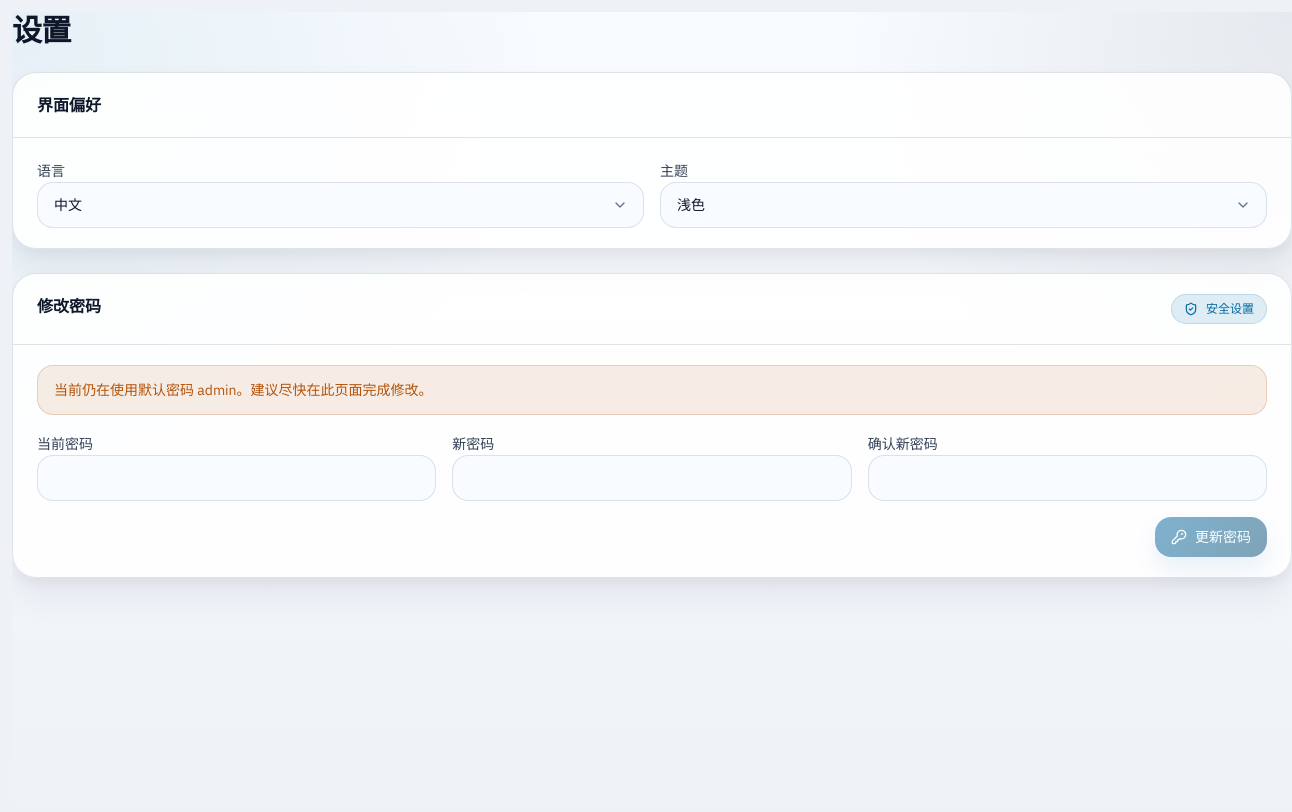
it: SettingsPage › 密码校验失败时通过 alert 区域提示错误
The image size is (1292, 812).
Type "old-password" into the password field labelled "当前密码".
click(237, 478); type("old-password")  # box [37, 455, 436, 501]
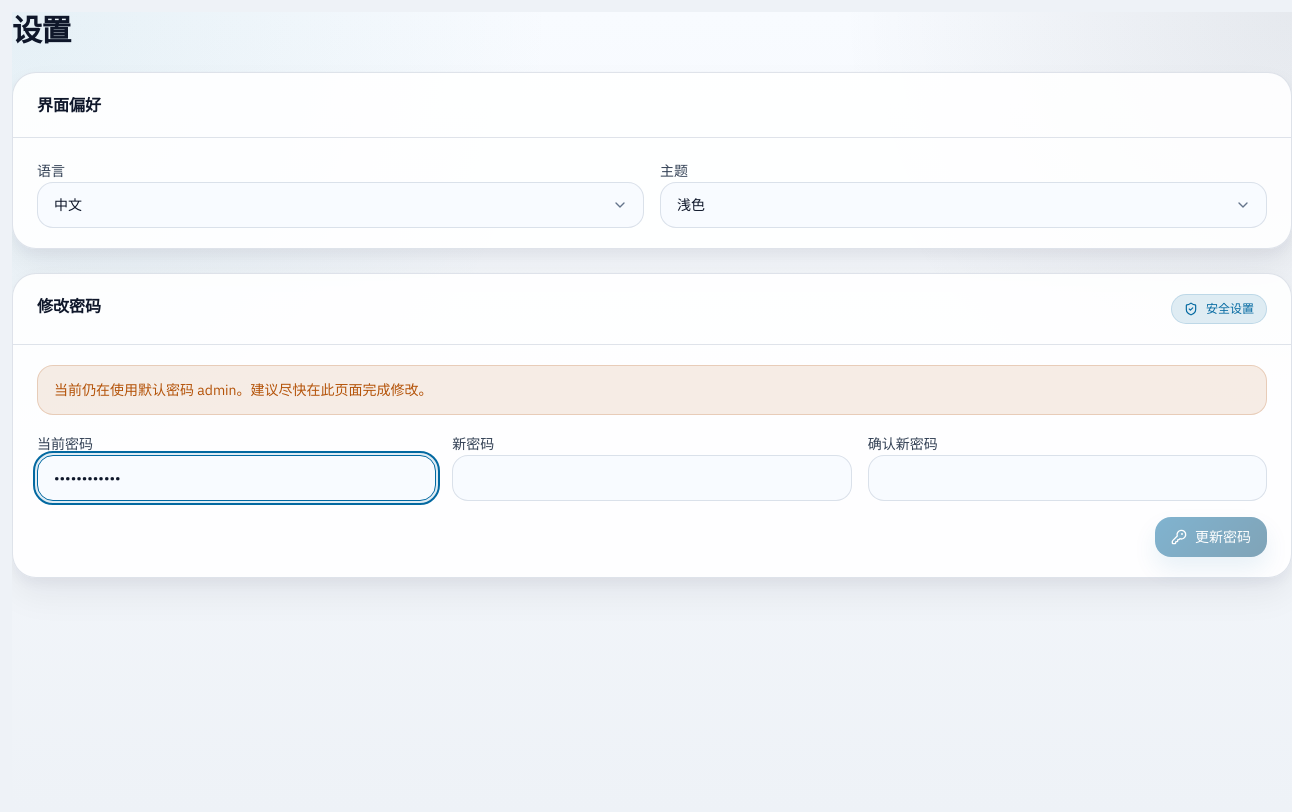
Type "new-password" into the password field labelled "新密码".
click(652, 478); type("new-password")  # box [452, 455, 852, 501]
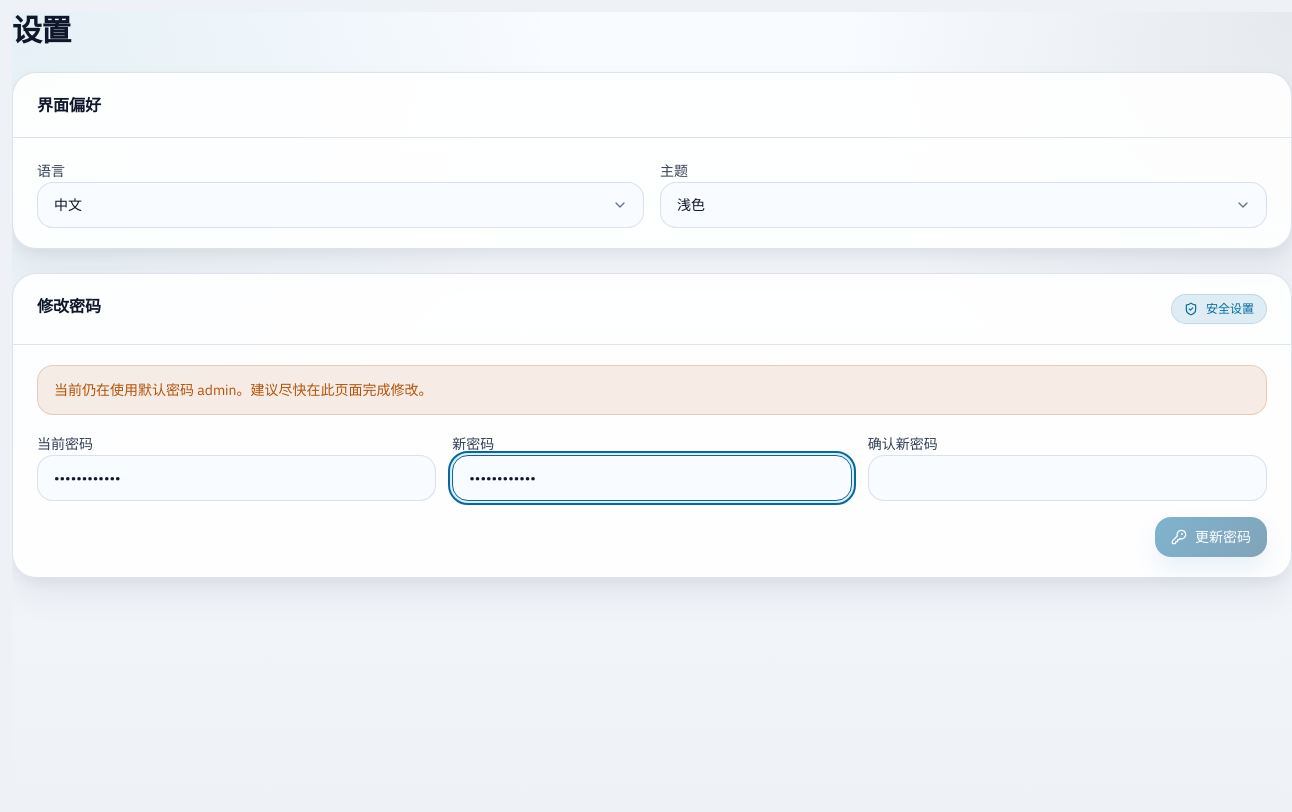
Type "different-password" into the password field labelled "确认新密码".
click(1067, 478); type("different-password")  # box [868, 455, 1267, 501]
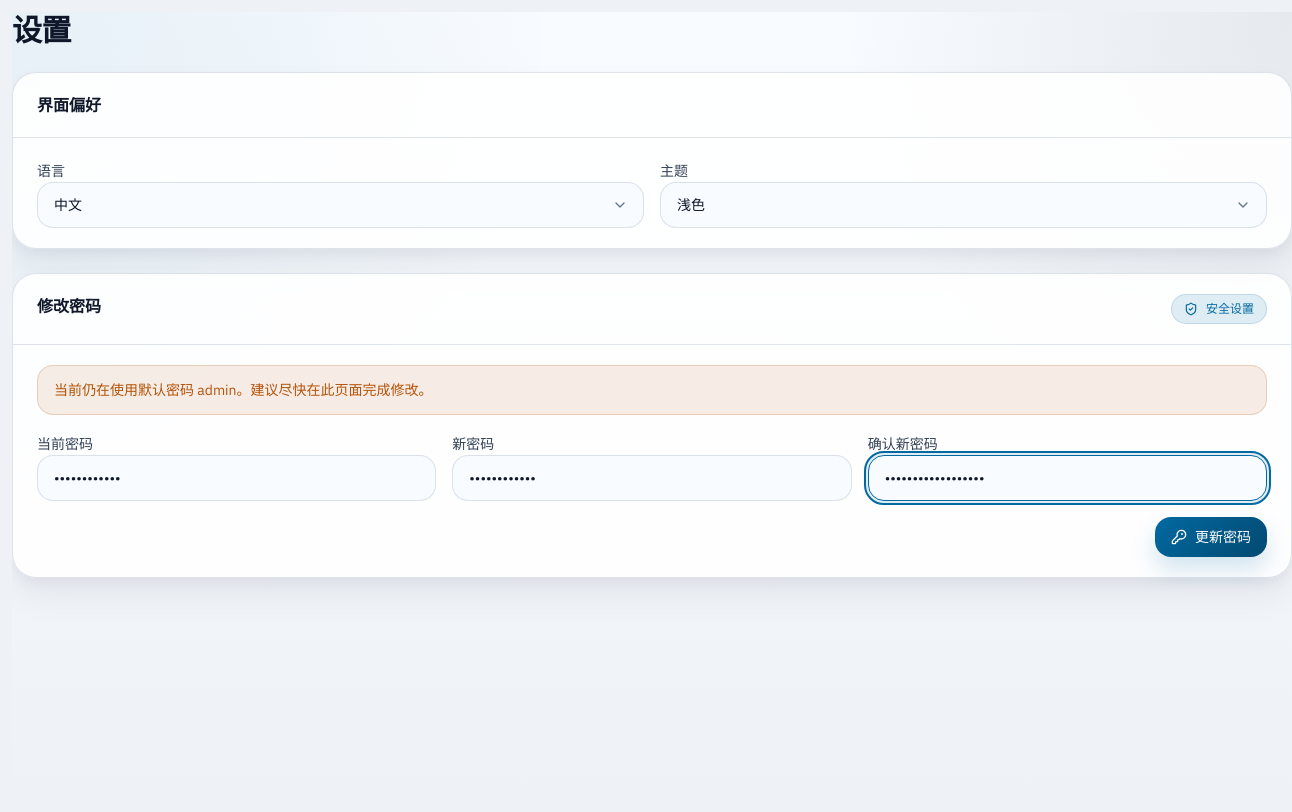
Click the button "更新密码".
click(1211, 537)  # box [1155, 517, 1267, 557]
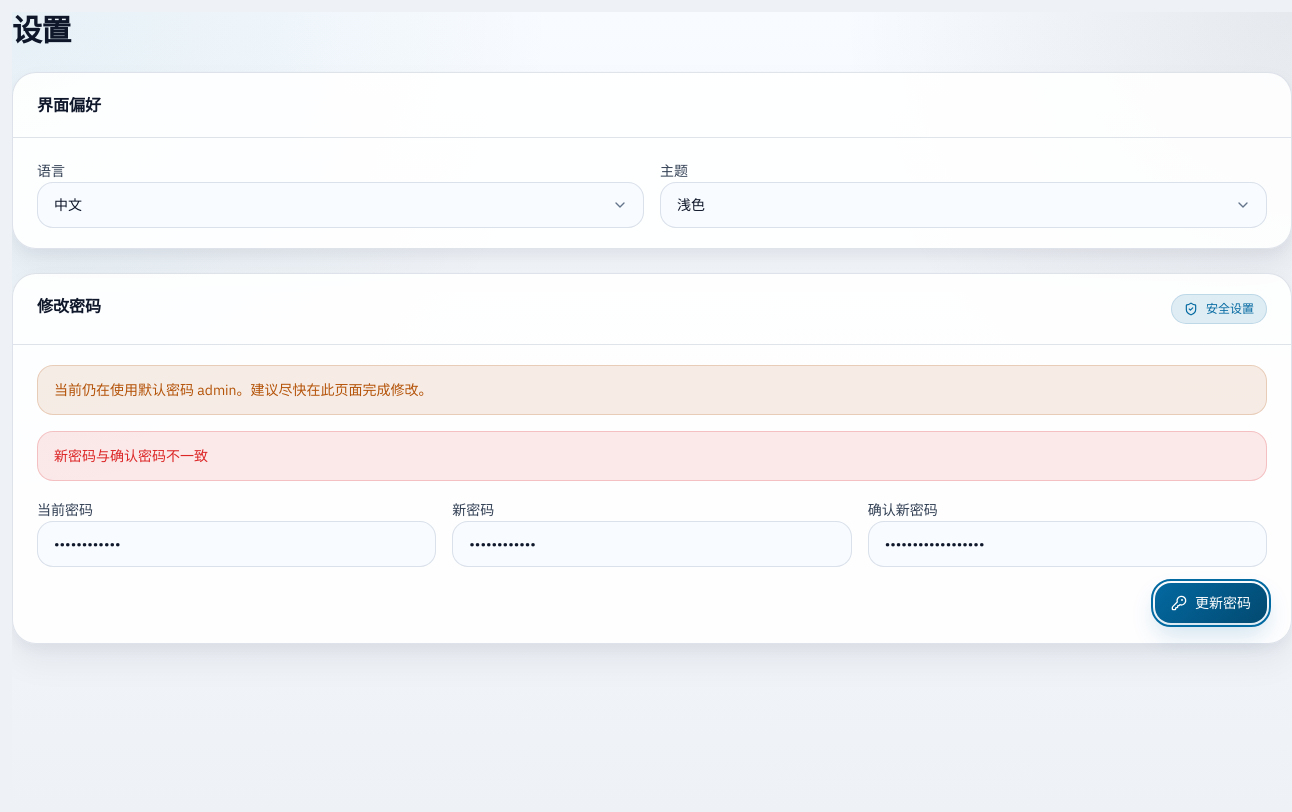
Result: the message reads "新密码与确认密码不一致" at [54, 447, 208, 465]
